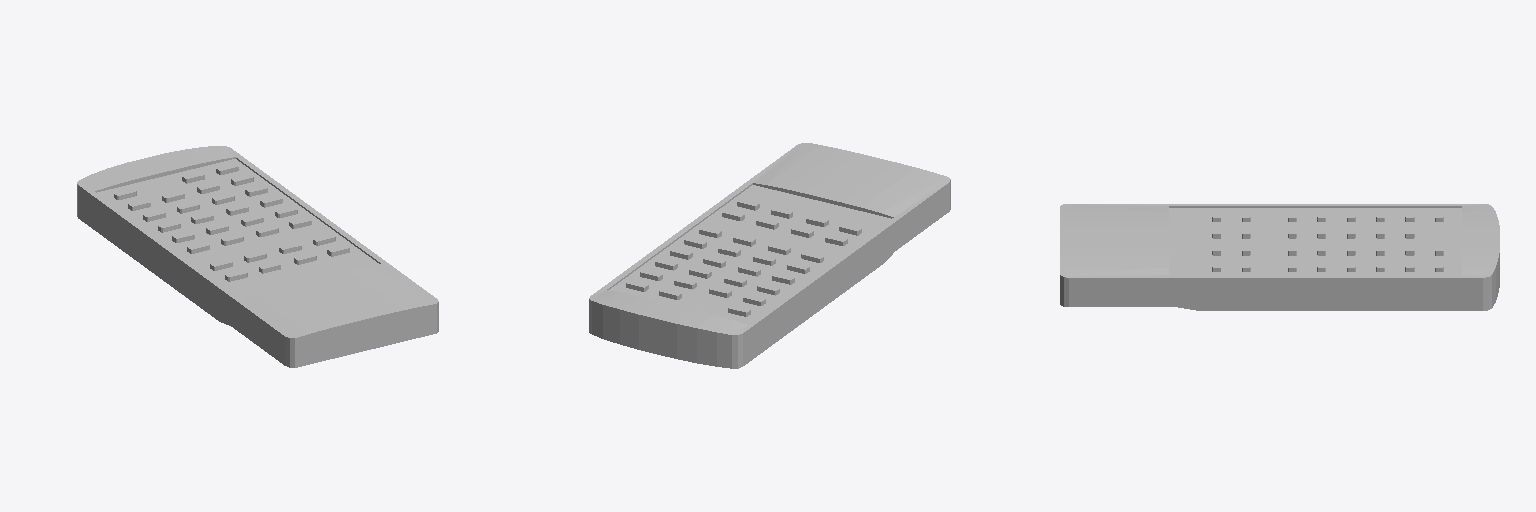
The model's file is Vintage_remote_LOD0.obj.
The picture shows the model from 3 angles: view 1: azimuth 30°, elevation 25°; view 2: azimuth 150°, elevation 25°; view 3: azimuth 270°, elevation 25°; orthographic projection.
Visible parts, largest first — view 1: Vintage_remote_LOD0_Plane.004; view 2: Vintage_remote_LOD0_Plane.004; view 3: Vintage_remote_LOD0_Plane.004.
Boxes of the visible parts, x1,y1,x2,y2 form: Vintage_remote_LOD0_Plane.004: [77, 146, 438, 367]; Vintage_remote_LOD0_Plane.004: [589, 143, 950, 368]; Vintage_remote_LOD0_Plane.004: [1060, 204, 1499, 310].
Bounding box in the file's own units: 0.06 × 0.0135 × 0.15.